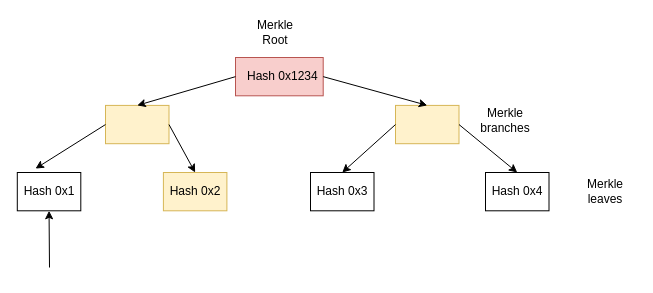
This 653x293 diagram has some shape labels left out. Here are the shapes that lost their labels. From the top down, the box of each, then its label:
(104, 104, 169, 144): Hash 0x12
(394, 104, 459, 144): Hash 0x34
